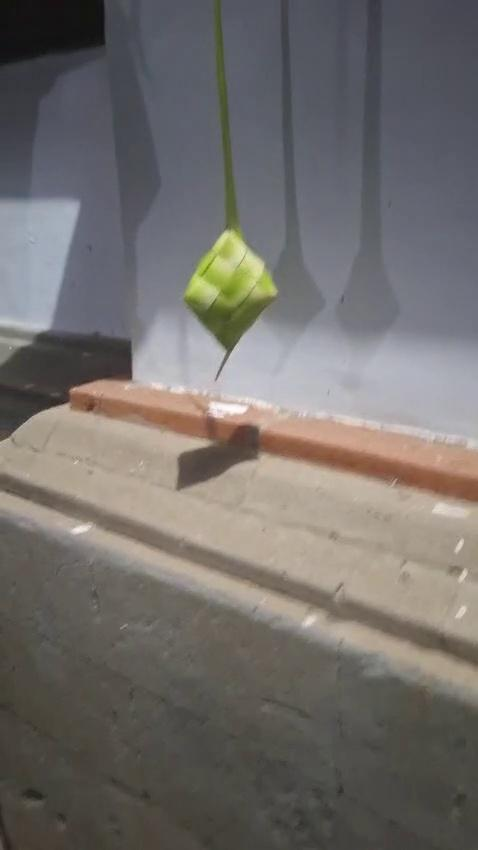Tipat Nasi: (172, 224, 284, 372)
